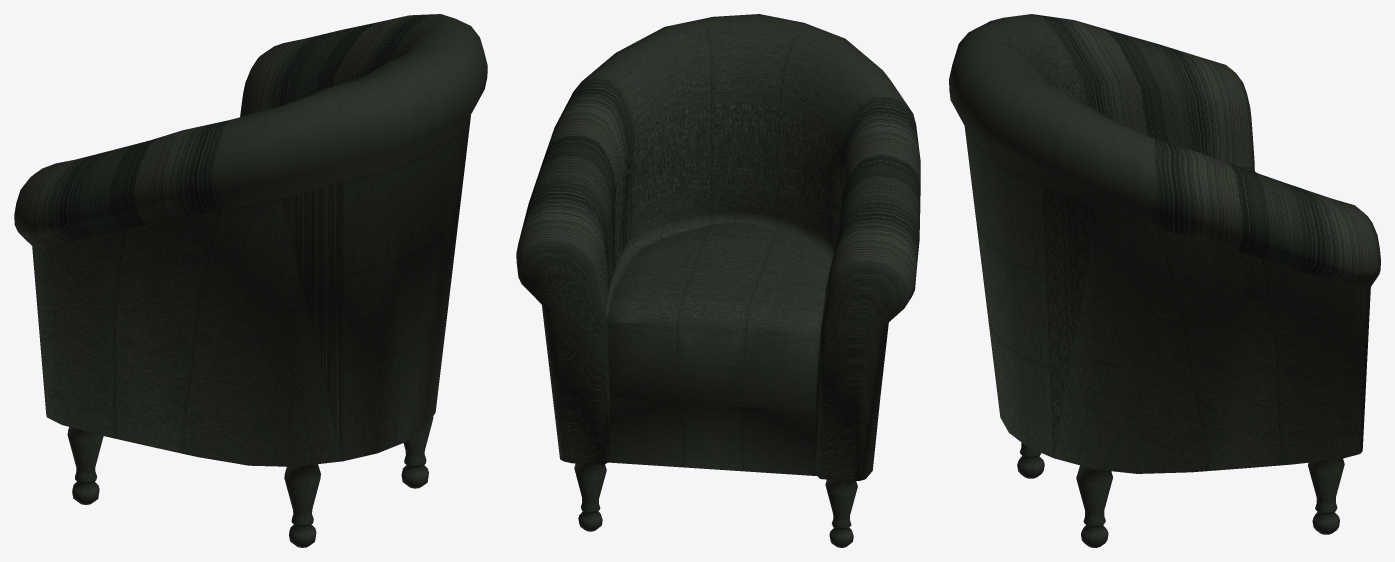
The model's file is armchairtextured.fbx.
3 views of the same model, side by side, from view 1: azimuth 30°, elevation 25°; view 2: azimuth 150°, elevation 25°; view 3: azimuth 270°, elevation 25° (orthographic). The views are drawn at different scales.
Parts seen in each view (by area): view 1: sofa; view 2: sofa; view 3: sofa.
Boxes of the visible parts, bbox=[...] form: sofa: bbox=[14, 14, 487, 547]; sofa: bbox=[516, 14, 920, 547]; sofa: bbox=[949, 14, 1380, 547].
Size of the model in its own units: 243 by 261 by 222.
Materials: 1 (1 with a texture image).
